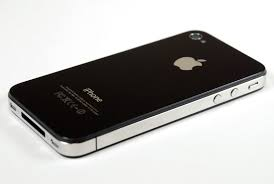iphone: (3, 27, 267, 164)
iphone4: (3, 27, 267, 164)
